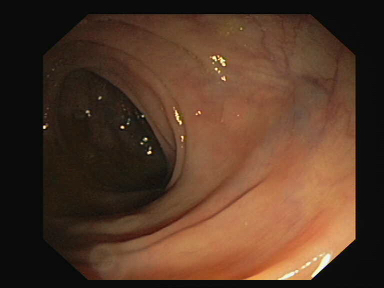polyp: (217, 94, 256, 134)
